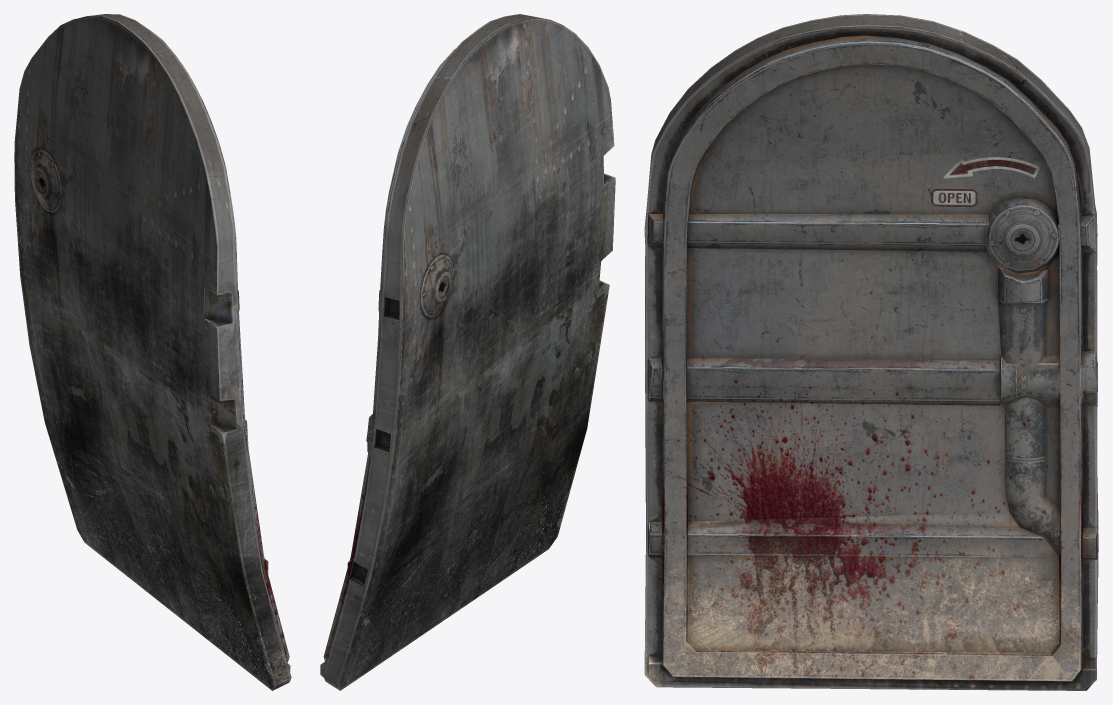
Rendered from plane_wreckage_door.dae.
3 views of the same model, side by side, from view 1: azimuth 30°, elevation 25°; view 2: azimuth 150°, elevation 25°; view 3: azimuth 270°, elevation 25° (orthographic). The views are drawn at different scales.
Visible parts, largest first — view 1: plane_wreckage_door; view 2: plane_wreckage_door; view 3: plane_wreckage_door.
Boxes of the visible parts, left/top/right/bottom form: plane_wreckage_door: left=14, top=14, right=291, bottom=690; plane_wreckage_door: left=320, top=14, right=615, bottom=690; plane_wreckage_door: left=644, top=14, right=1098, bottom=690.
Bounding box in the file's own units: 25.95 × 153 × 97.01.
